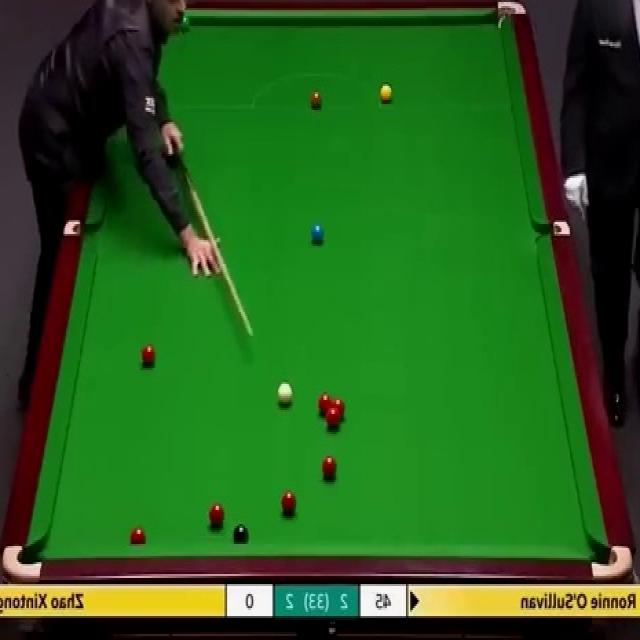black-ball: (232, 523, 248, 545)
blue-ball: (309, 222, 324, 245)
brown-ball: (310, 88, 322, 108)
green-ball: (180, 12, 190, 30)
red-ball: (320, 451, 337, 480), (280, 489, 296, 517), (208, 504, 225, 530), (142, 344, 156, 369), (129, 525, 148, 543), (332, 398, 346, 422), (318, 393, 331, 418), (324, 411, 340, 430)
white-ball: (278, 380, 294, 406)
yellow-ball: (381, 86, 393, 102)
